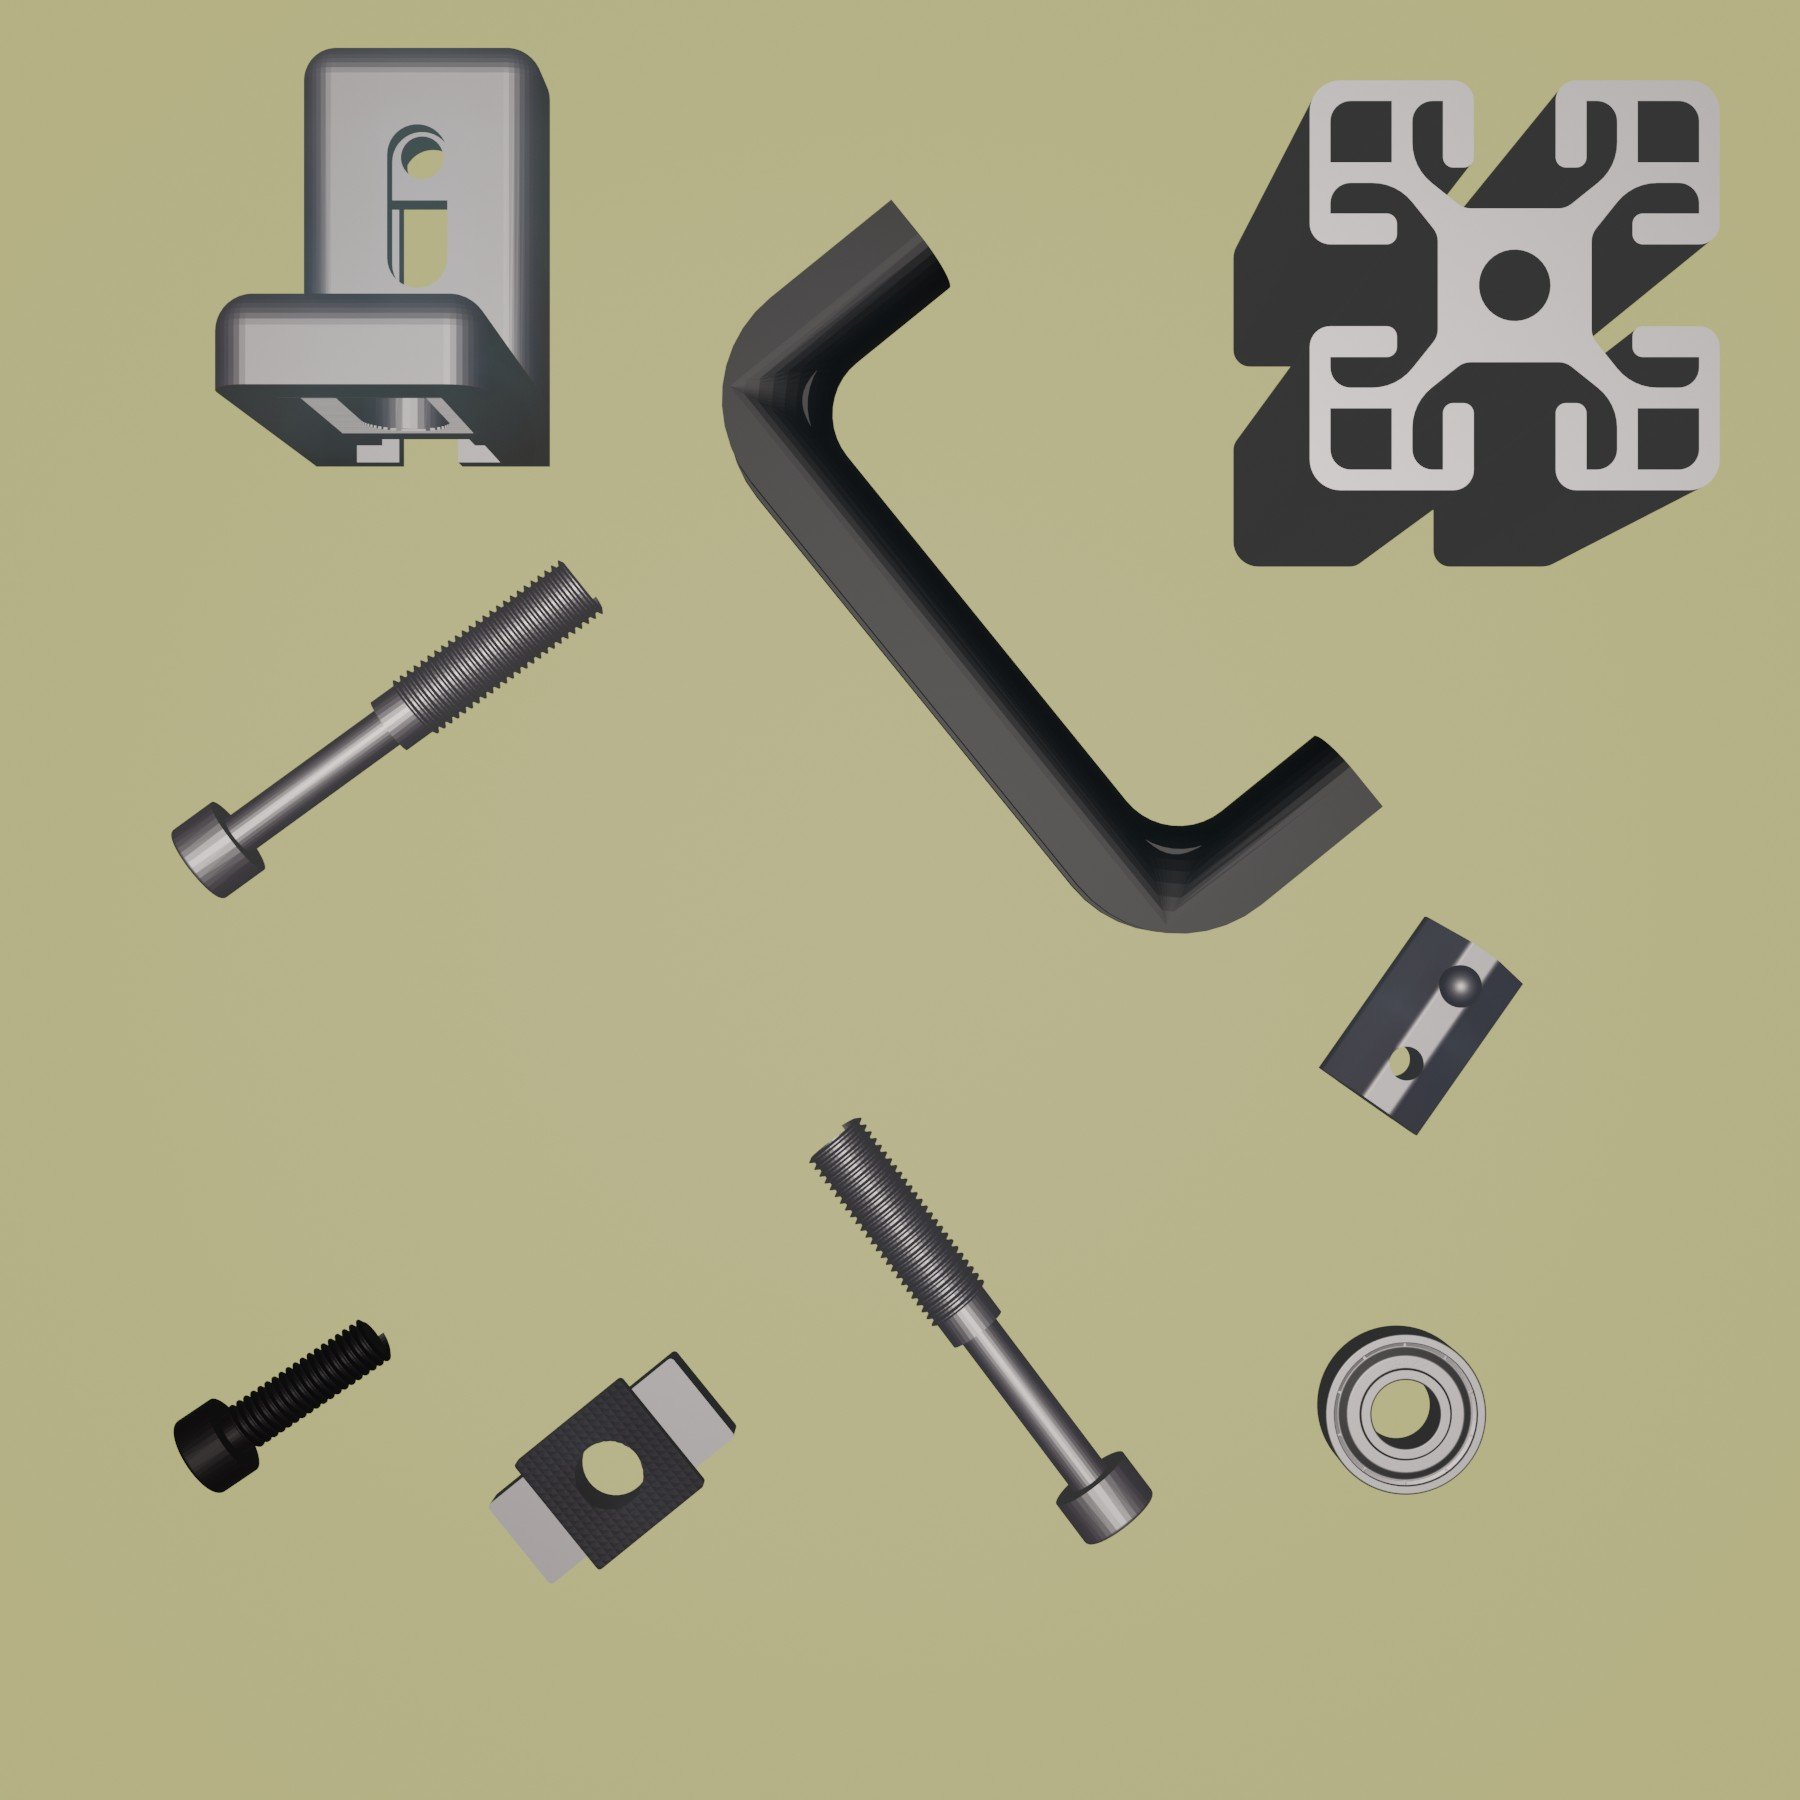Aluminium Extension: (1228, 76, 1727, 569)
Ball Bearing: (1317, 1322, 1488, 1498)
Multiwinkel: (213, 38, 555, 471)
Pull Handle: (719, 198, 1381, 936)
Shoulder Socket Head Cap Screw: (801, 1113, 1154, 1549), (170, 557, 607, 900)
Socket Head Cap Screw: (171, 1314, 394, 1497)
T Nut Square: (486, 1347, 738, 1587)
T Spring Nut: (1315, 912, 1525, 1139)
